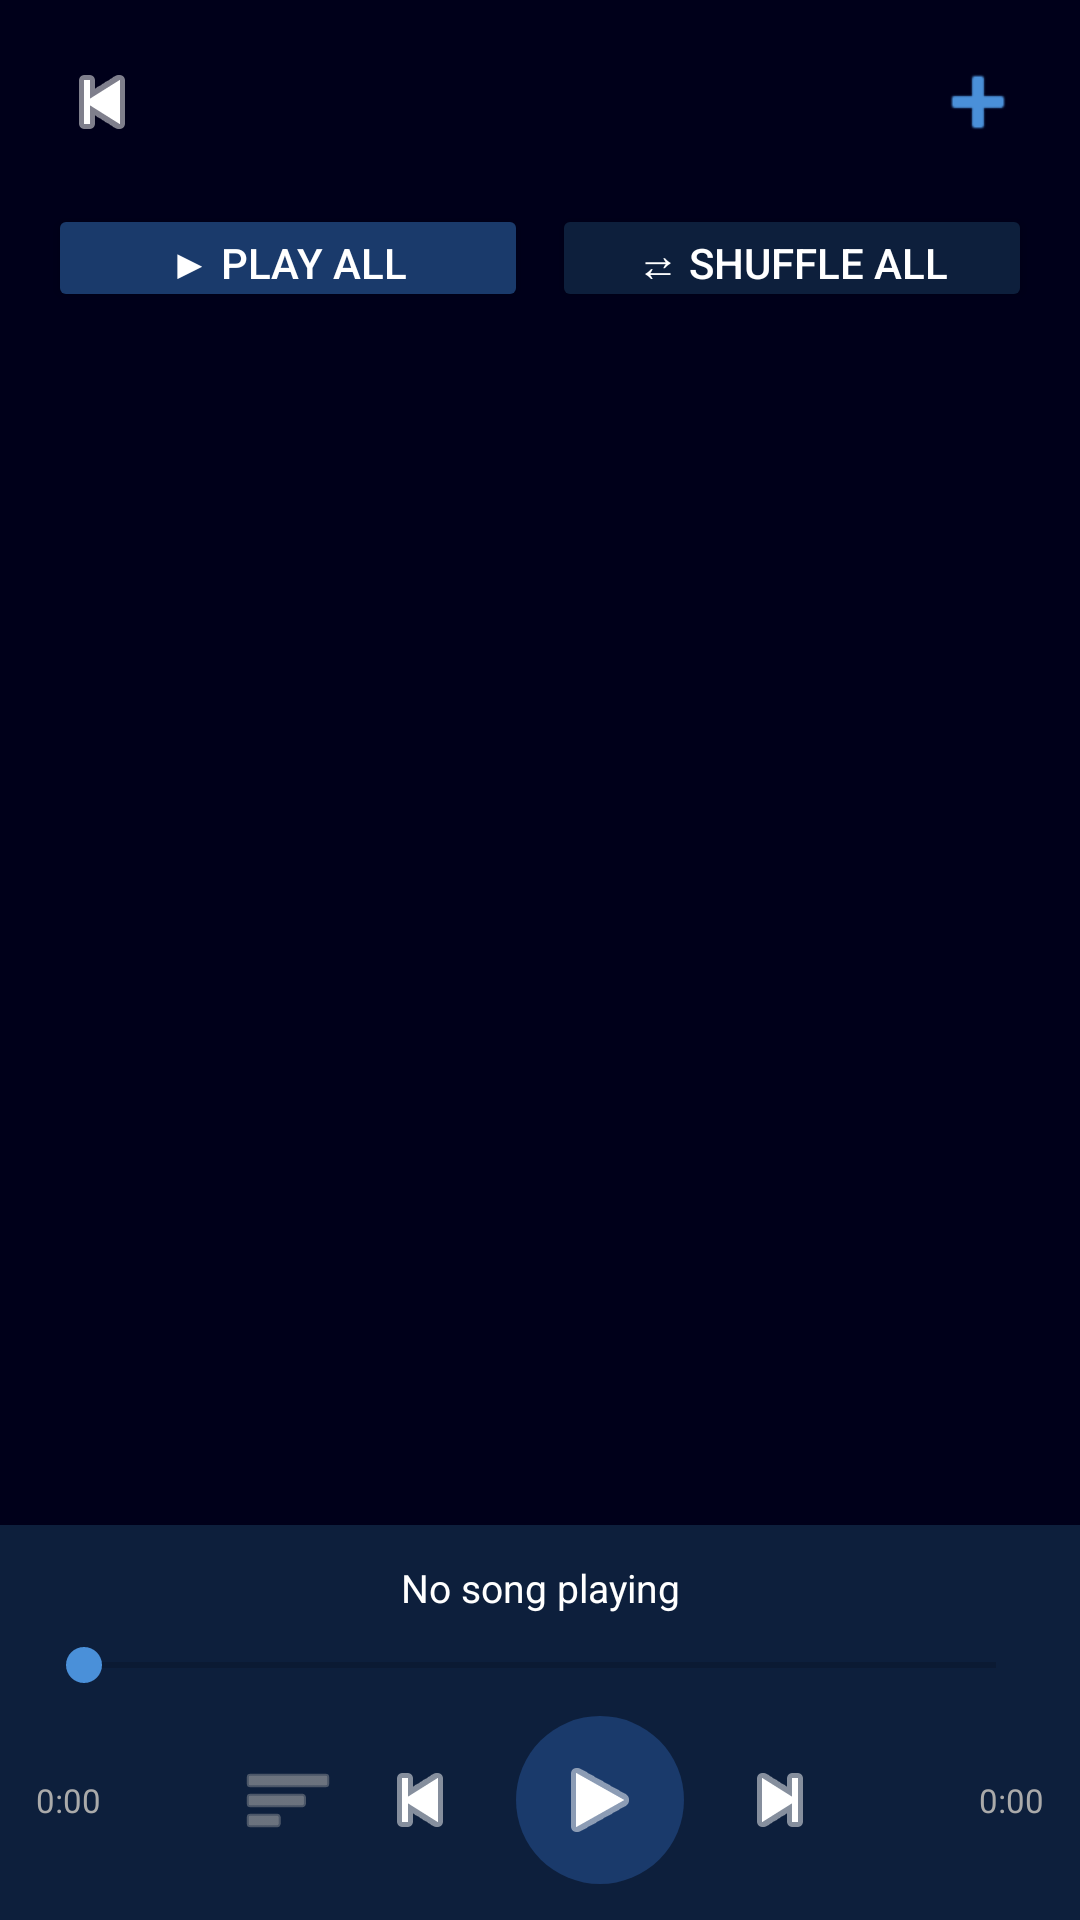

Locate icon controls on the screen. Image size 1080×1920, boxes as rect(x1, y1, x2, y2).
add: rect(951, 75, 1005, 129)
next: rect(757, 1773, 803, 1827)
previous: rect(79, 75, 125, 129), rect(397, 1773, 443, 1827)
sort by size: rect(247, 1774, 329, 1827)
